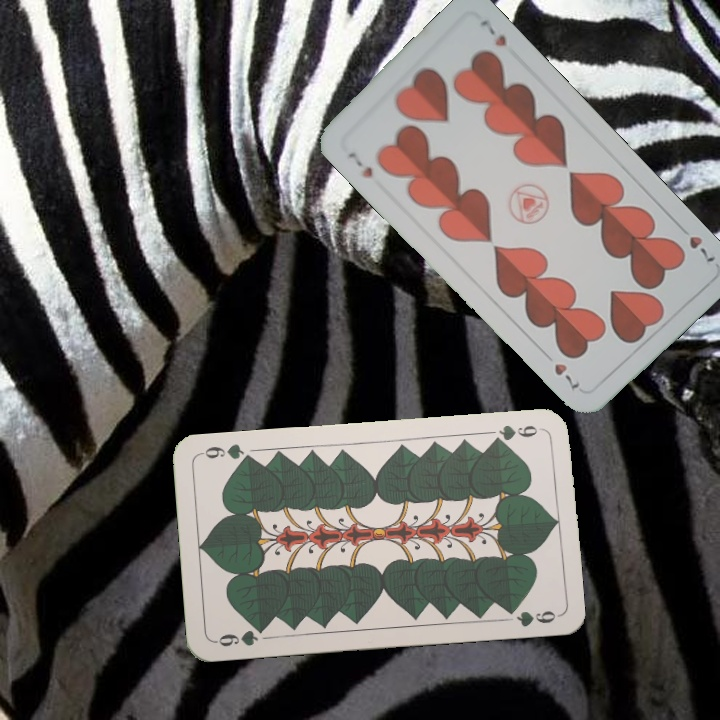G9: (211, 622, 269, 649), (487, 420, 540, 446)
H7: (673, 220, 719, 265), (343, 147, 376, 182)
